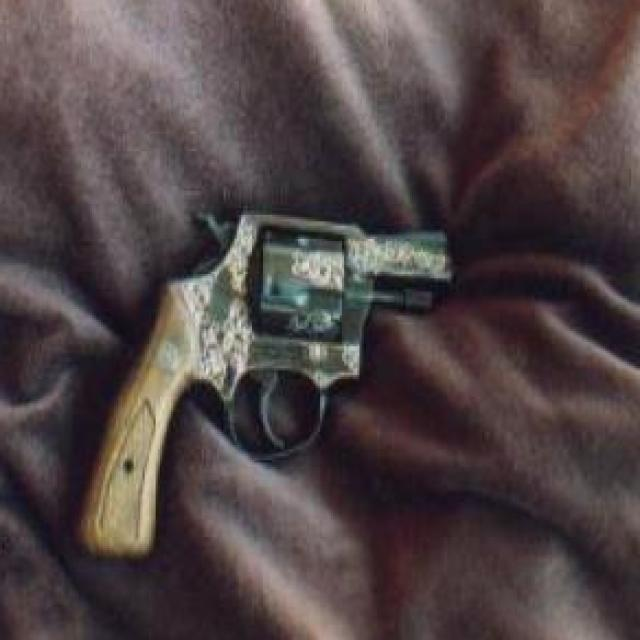pistol: (74, 208, 460, 558)
